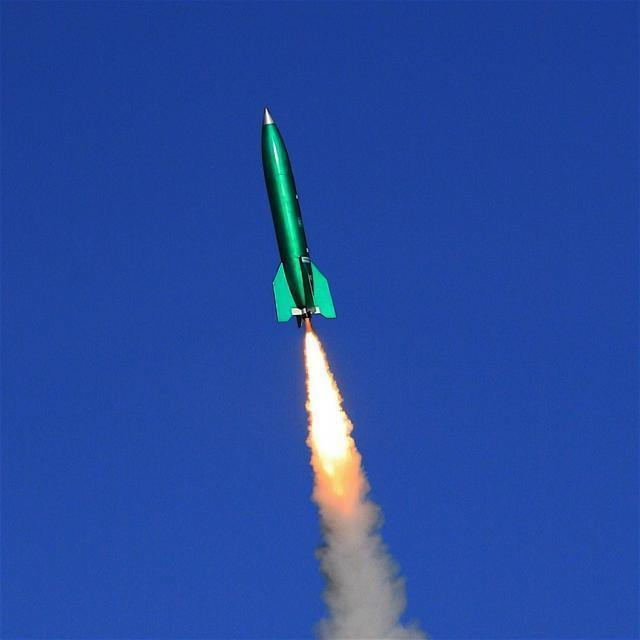missile: (258, 105, 338, 329)
